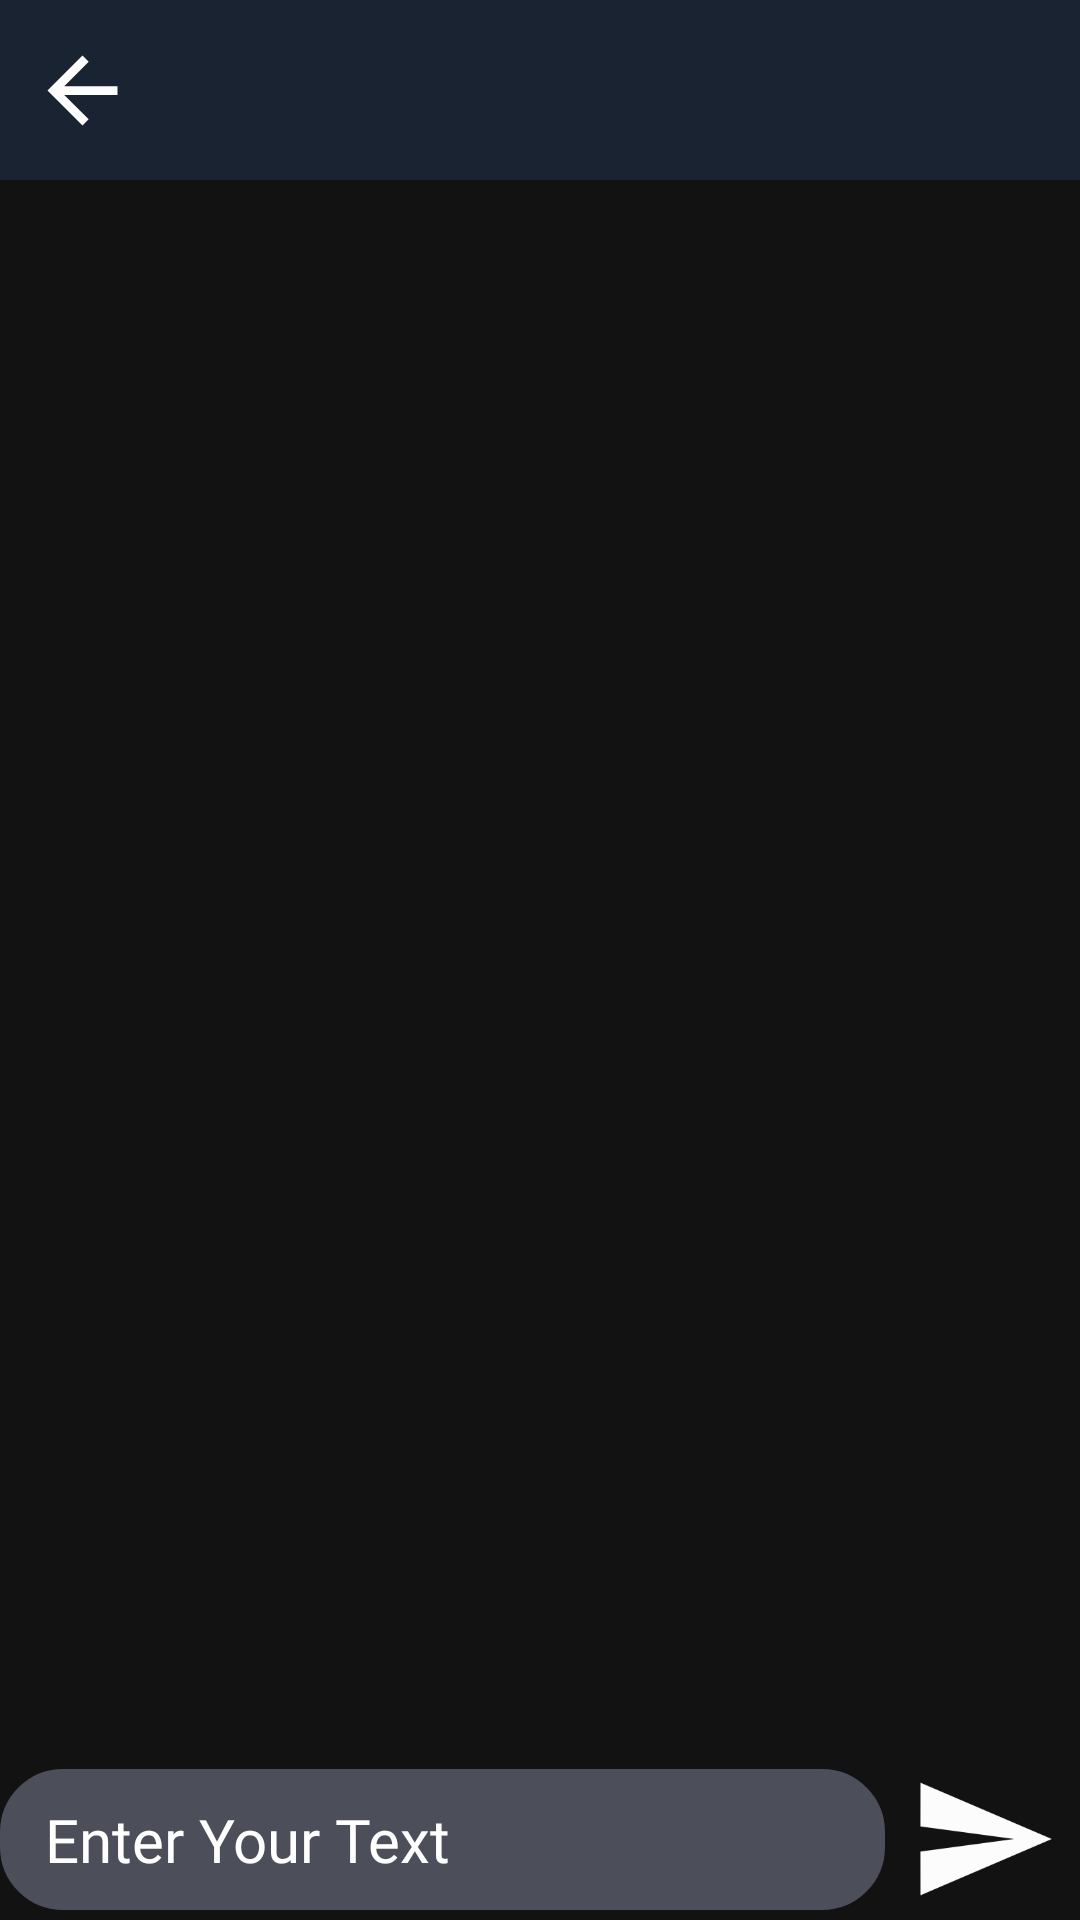

Icons on this 1080px x 1920px Android screen, each with its box as bbox=(x1, y1, x2, y2):
arrow back: bbox=(47, 55, 118, 126)
send: bbox=(920, 1782, 1052, 1896)
